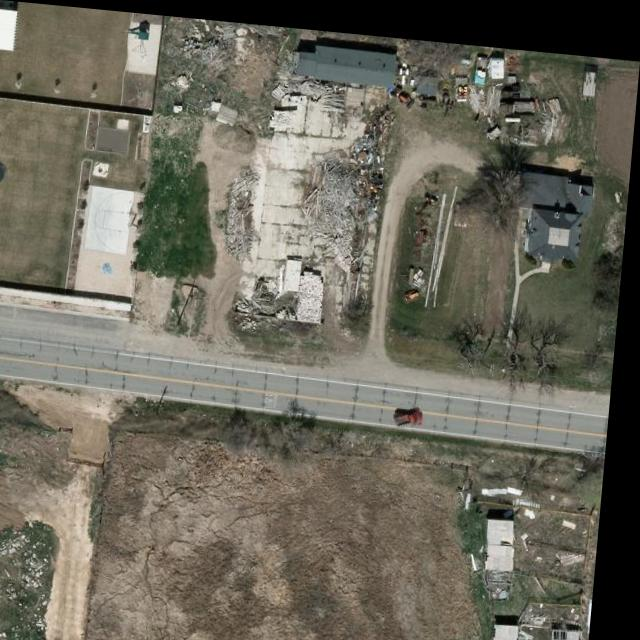vehicle: (499, 89, 537, 108), (400, 398, 431, 421), (474, 47, 488, 75)
